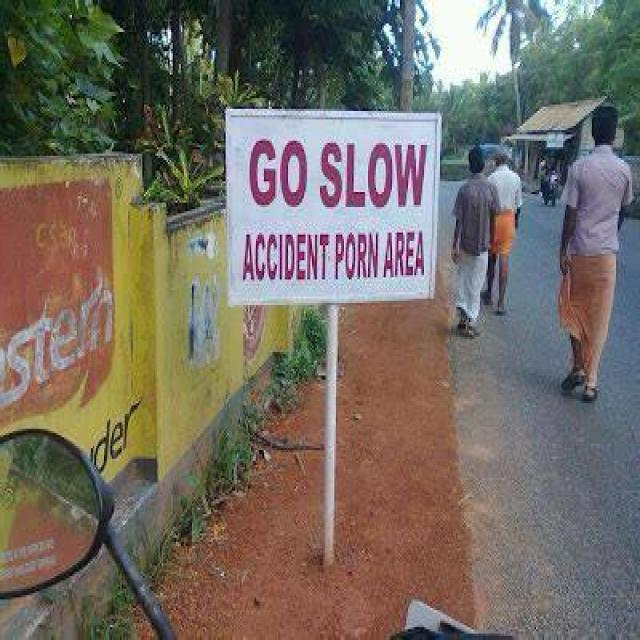go_slow: (222, 100, 442, 306)
